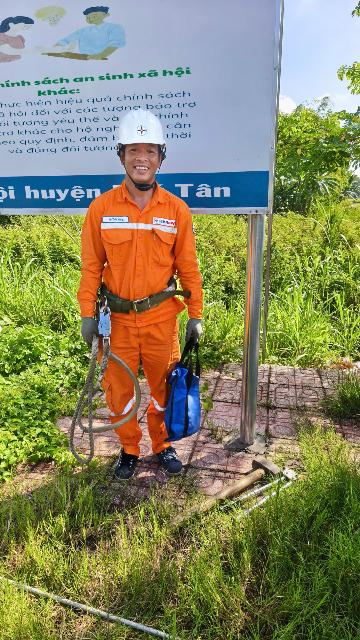gloves: (69, 321, 108, 346), (179, 315, 204, 334)
harness: (78, 278, 186, 322)
helmet: (114, 106, 173, 153)
shoes: (98, 446, 148, 482), (156, 444, 194, 475)
